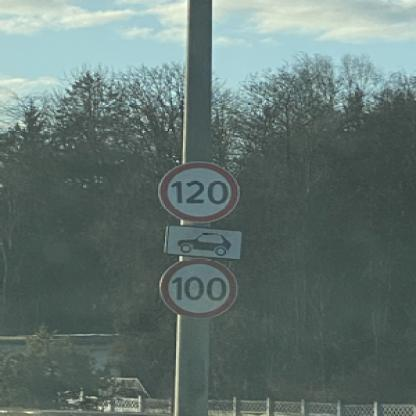speedlimit: (155, 161, 237, 223), (158, 257, 233, 318)
